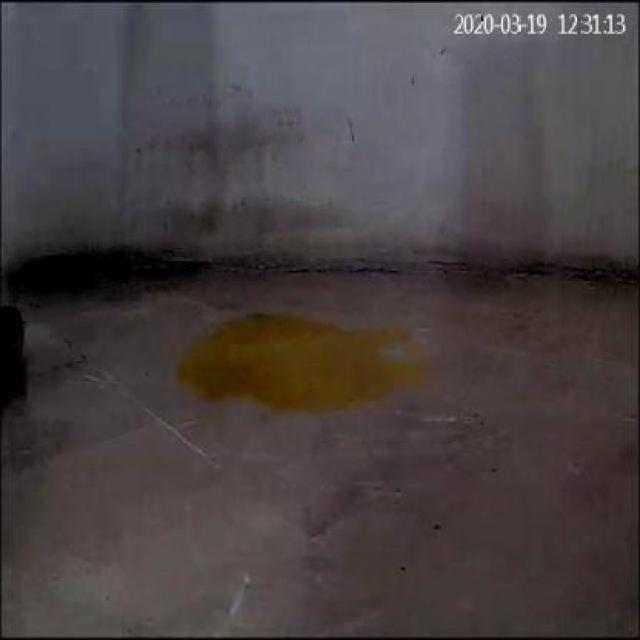spill: (176, 310, 422, 415)
